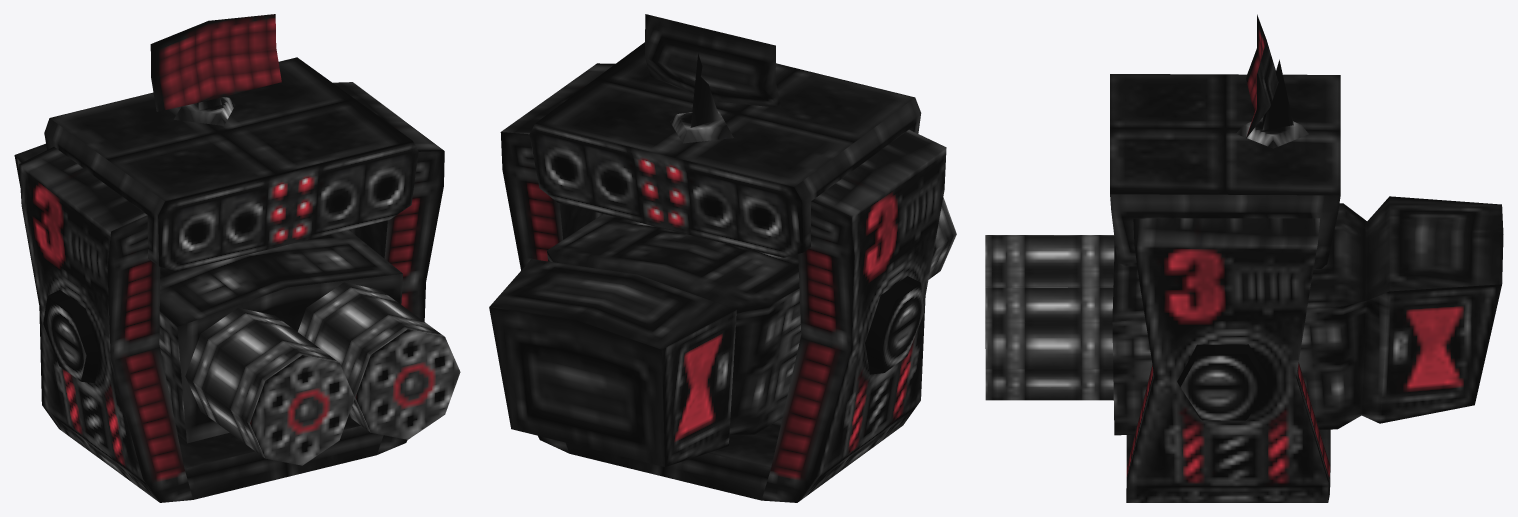
Rendered from sentry3.glb.
3 renders of one model, left to right at view 1: azimuth 30°, elevation 25°; view 2: azimuth 150°, elevation 25°; view 3: azimuth 270°, elevation 25°, orthographic. The views are drawn at different scales.
Visible parts, largest first — view 1: sentry3; view 2: sentry3; view 3: sentry3.
Boxes of the visible parts, left/top/right/bottom form: sentry3: left=14, top=14, right=460, bottom=502; sentry3: left=489, top=14, right=956, bottom=502; sentry3: left=985, top=14, right=1503, bottom=502.
Size of the model in its own units: 39.11 by 43.46 by 50.22.
Materials: 2 (2 with a texture image).
